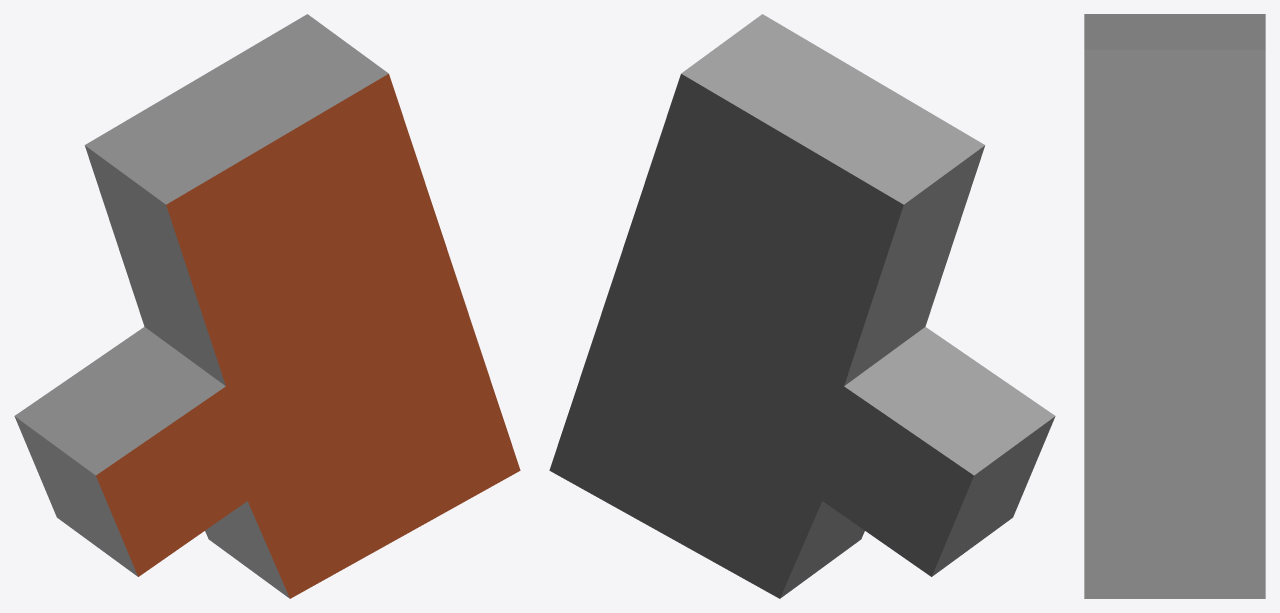
Rendered from construction_5064_assumed_A_Casa_h6m.obj.
The picture shows the model from 3 angles, left to right: view 1: azimuth 30°, elevation 25°; view 2: azimuth 150°, elevation 25°; view 3: azimuth 270°, elevation 25°; orthographic projection. The views are drawn at different scales.
Visible parts, largest first — view 1: construction_5064_assumed_A_Casa; view 2: construction_5064_assumed_A_Casa; view 3: construction_5064_assumed_A_Casa.
Part boxes in pixels (x1,y1,x2,y2): construction_5064_assumed_A_Casa: (14,14,520,598); construction_5064_assumed_A_Casa: (549,14,1055,598); construction_5064_assumed_A_Casa: (1084,14,1265,598).
Size of the model in its own units: 18.07 by 20.37 by 6.
